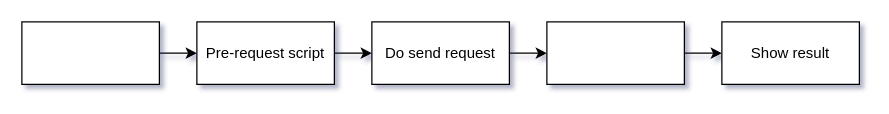
The diagram is 889 pixels wide and 114 high, and some of its shapes have lost their labels. The shapes that lost their labels are listed below. From the top down, each one's centre as x and y in pixels, then its label:
[90,52]: Send
[615,52]: Post-request script
